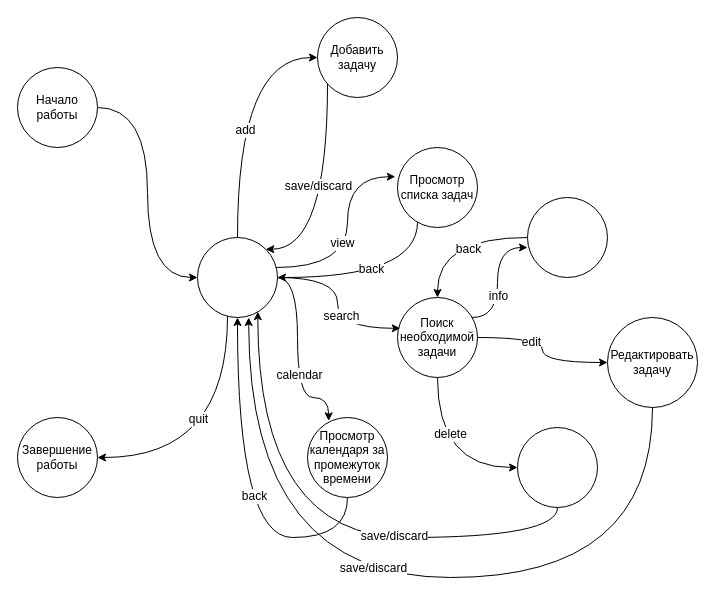
Some shapes in this 715 by 595 pixel diagram are drawn without their labels. The shapes that lost their labels are listed below. From the top down, each one's centre as x and y in pixels, then its label:
point (567, 237): Полная информация про задачу
point (237, 277): Список задач
point (557, 467): Удалить задачу
